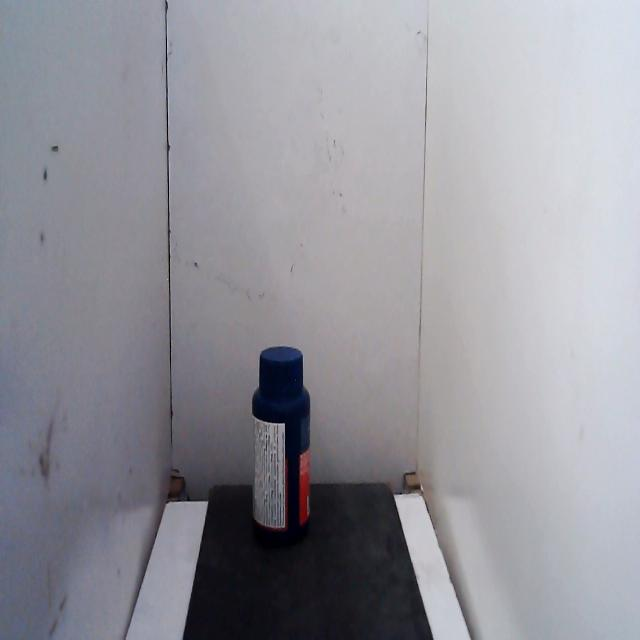plastico: (243, 333, 319, 551)
